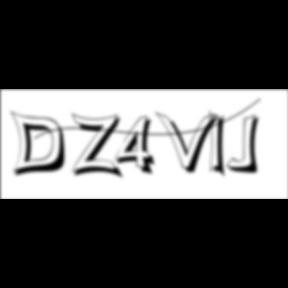4: (115, 115, 162, 179)
D: (11, 110, 74, 180)
J: (226, 114, 266, 176)
V: (156, 110, 222, 176)
Z: (72, 112, 126, 181)
l: (210, 108, 233, 182)
